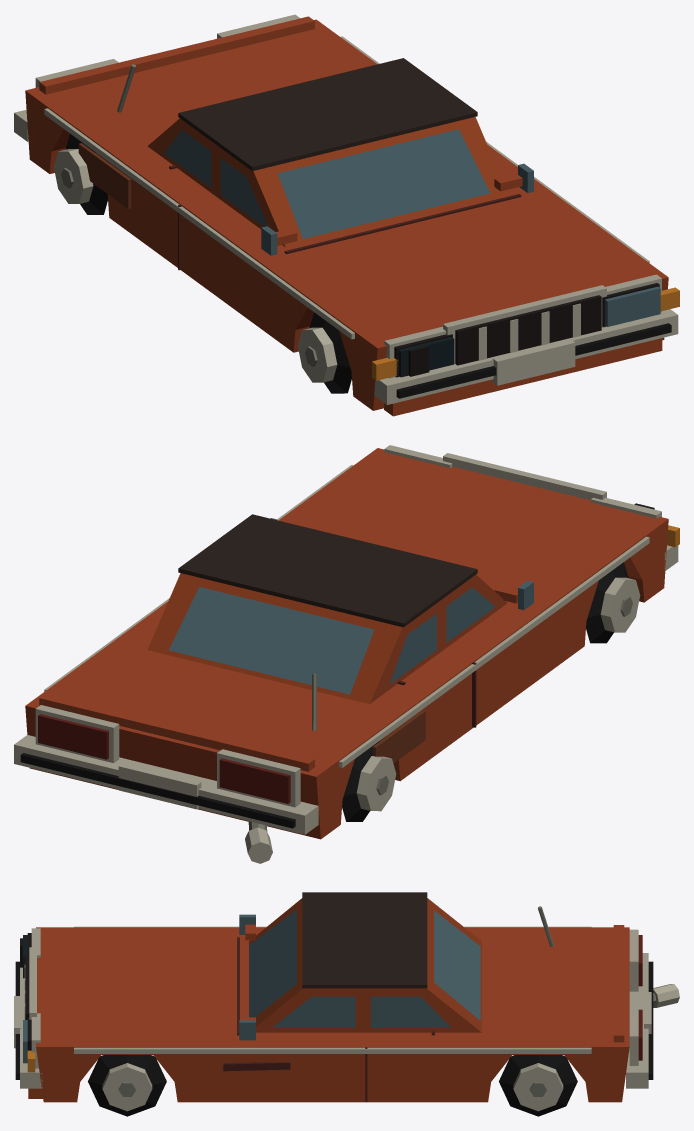
File: wreck-sedan.glb
3 views of the same model, one above another, from view 1: azimuth 30°, elevation 25°; view 2: azimuth 150°, elevation 25°; view 3: azimuth 270°, elevation 25° (orthographic). The views are drawn at different scales.
Visible parts, largest first — view 1: WreckSedan; view 2: WreckSedan; view 3: WreckSedan.
Part boxes in pixels (bbox=[...]): WreckSedan: bbox=[14, 14, 679, 416]; WreckSedan: bbox=[14, 445, 679, 863]; WreckSedan: bbox=[14, 892, 679, 1116].
Size of the model in its own units: 2.03 by 0.8803 by 4.38.
